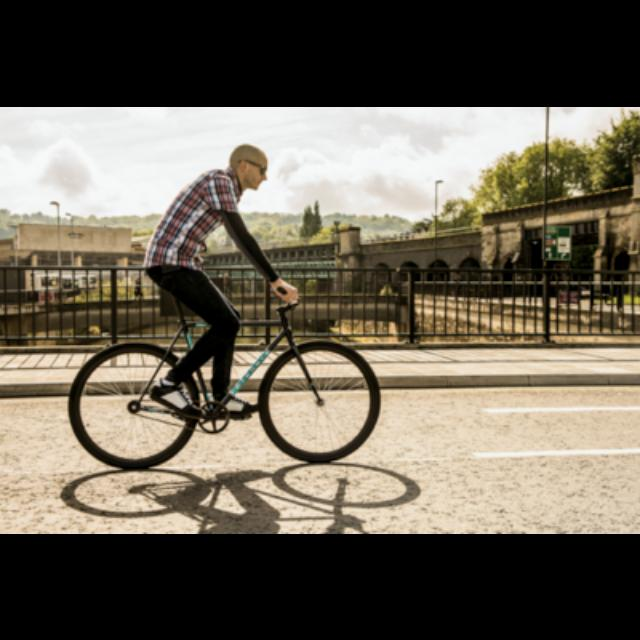Without Helmet: (228, 136, 272, 194)
